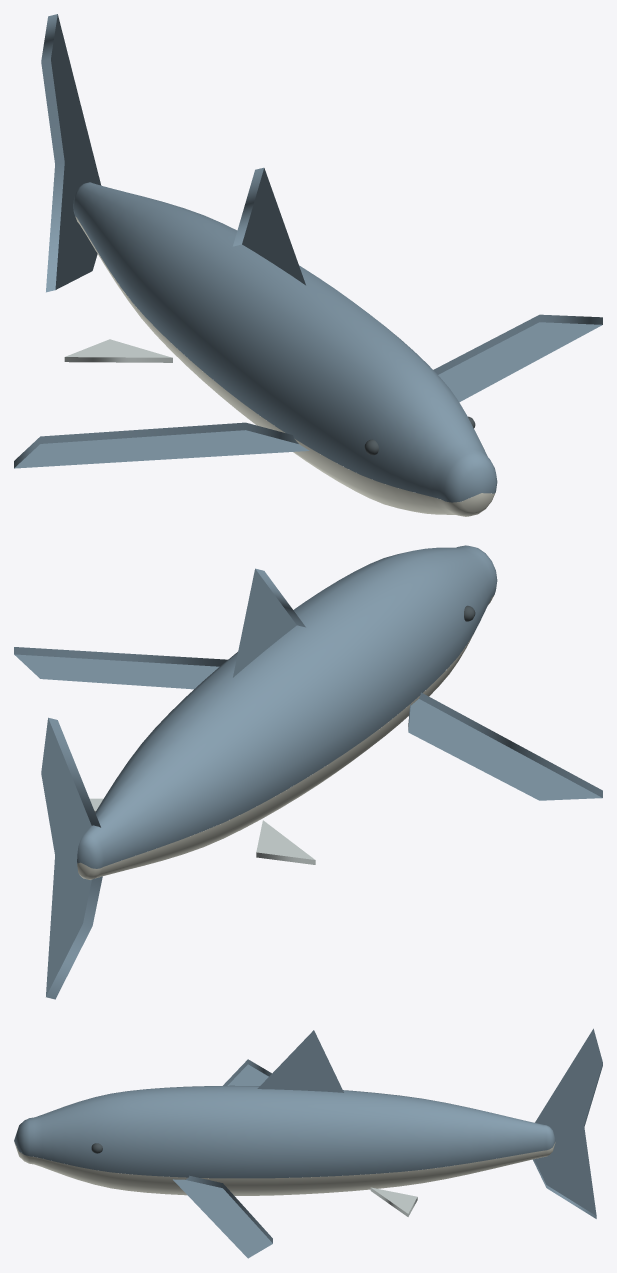
The model's file is ocean_flying.glb.
3 renders of one model, top to bottom at view 1: azimuth 30°, elevation 25°; view 2: azimuth 150°, elevation 25°; view 3: azimuth 270°, elevation 25°, orthographic. The views are drawn at different scales.
Visible parts, largest first — view 1: flying-fish; view 2: flying-fish; view 3: flying-fish.
Boxes of the visible parts, x1,y1,x2,y2 form: flying-fish: (14,14,602,516); flying-fish: (14,545,602,999); flying-fish: (14,1028,602,1258).
Bounding box in the file's own units: 0.2498 × 0.1126 × 0.32.
